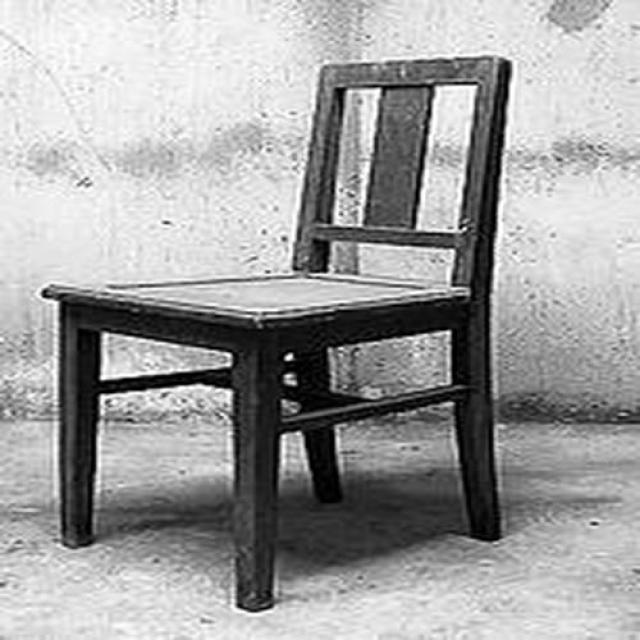chair: (40, 56, 515, 613)
